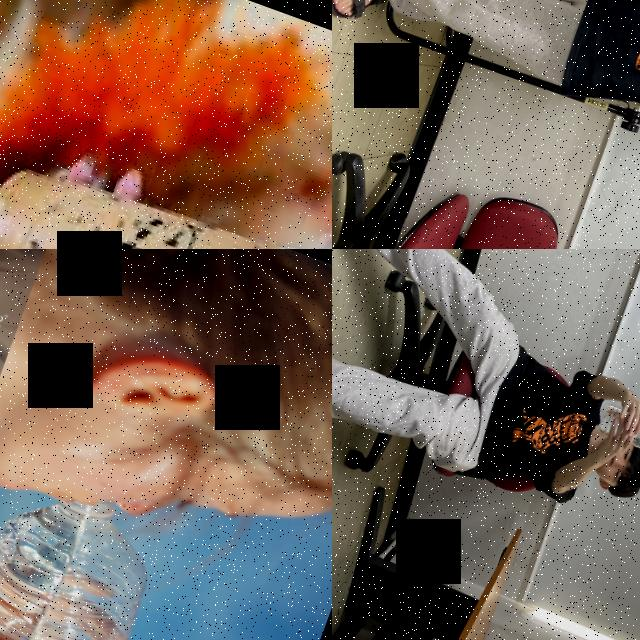bottle: (0, 467, 175, 640), (595, 400, 640, 462)
cup: (0, 119, 332, 249)
